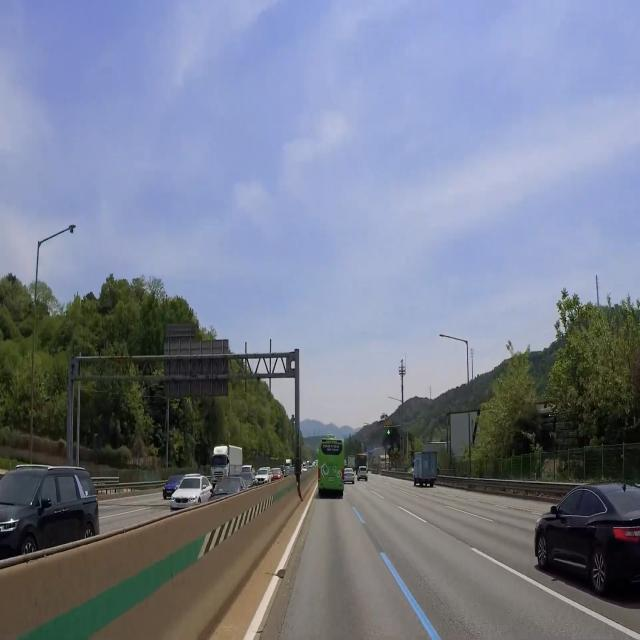car: (326, 477, 336, 486)
